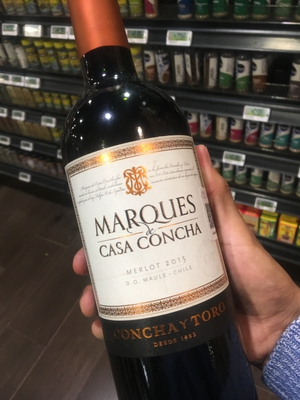marques de casa concha merlot: (53, 25, 247, 389)
